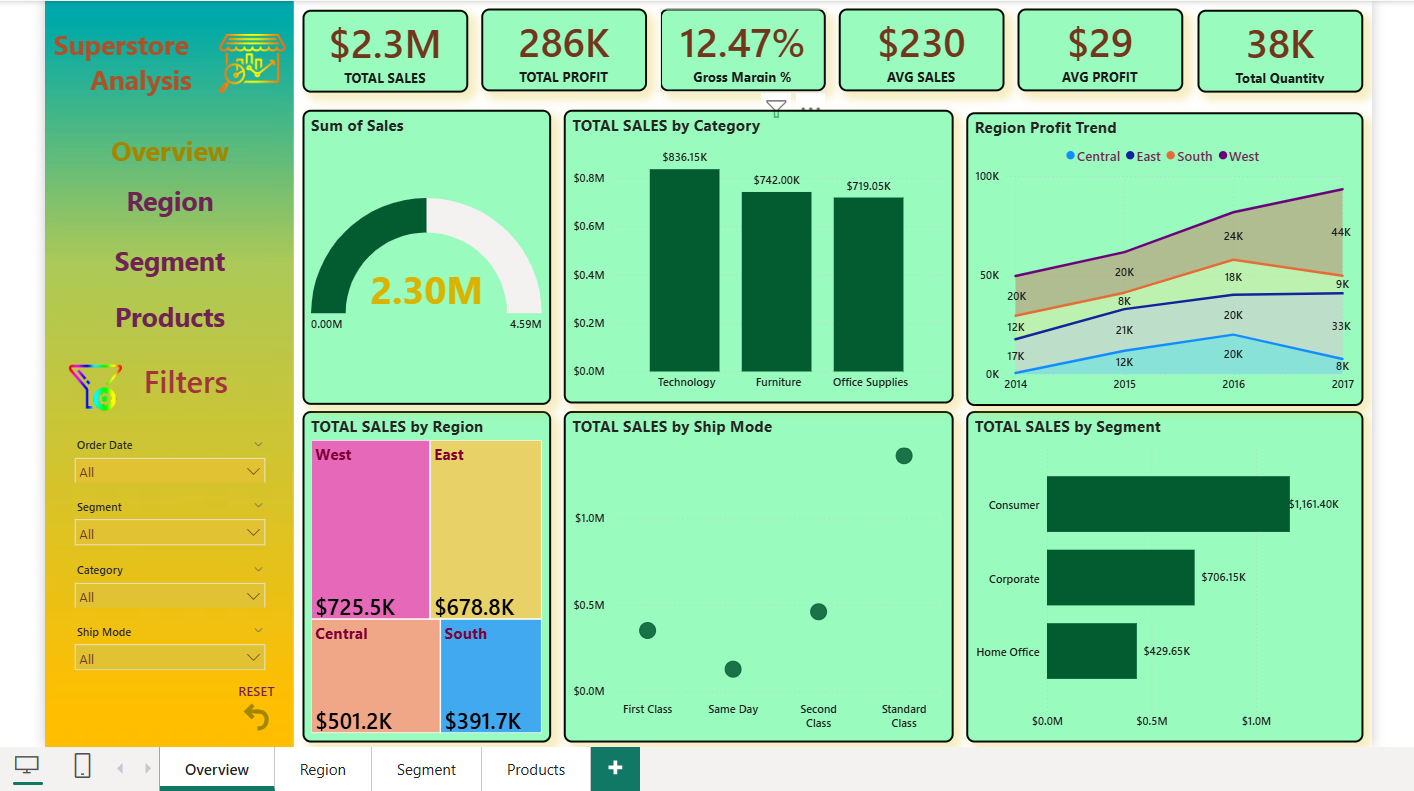

What the dashboard file says about the page in this screenshot:
{"tool":"powerbi","page":{"name":"Overview","canvas":[1600,900],"ordinal":0},"visuals":[{"type":"card","fields":{"Values":["Superstore.Gross Margin %"]},"box":[742,9.5,200,100],"z":0},{"type":"image","title":"Analysis icon","box":[205,30,90.6,90.6],"z":0,"group":"g2"},{"type":"textbox","title":"Filter","box":[118.8,432.5,130,55],"z":0,"group":"g1"},{"type":"card","fields":{"Values":["Superstore.TOTAL PROFIT"]},"box":[526,9.4,200,100],"z":1000},{"type":"textbox","title":"Title","box":[0,30,200,90],"z":1000,"group":"g2"},{"type":"image","title":"Filter icon","box":[25,438.3,70.3,55],"z":1000,"group":"g1"},{"type":"card","fields":{"Values":["Superstore.TOTAL SALES"]},"box":[310,9.9,200,100],"z":2000},{"type":"card","fields":{"Values":["Superstore.AVG SALES"]},"box":[958,9.6,200,100],"z":3000},{"type":"card","fields":{"Values":["Superstore.AVG PROFIT"]},"box":[1174,9.8,200,100],"z":4000},{"type":"card","fields":{"Values":["Superstore.Total Quantity"]},"box":[1390,10,200,100],"z":5000},{"type":"treemap","fields":{"Group":["Superstore.Region"],"Values":["Superstore.TOTAL SALES"]},"box":[310,495.3,300,400],"z":6000},{"type":"scatterChart","fields":{"X":["Superstore.Ship Mode"],"Y":["Superstore.TOTAL SALES"]},"box":[625.5,495.3,470,400],"z":7000},{"type":"clusteredBarChart","fields":{"Category":["Superstore.Segment"],"Y":["Superstore.TOTAL SALES"]},"box":[1110.9,495.3,479,400],"z":8000},{"type":"actionButton","title":"RESET","box":[220,820,70,60],"z":9000},{"type":"slicer","title":"Ship Mode Slicer","fields":{"Values":["Superstore.Ship Mode"]},"box":[25,746.9,250,60.9],"z":10000},{"type":"slicer","title":"Category Slicer","fields":{"Values":["Superstore.Category"]},"box":[25,672.3,250,59.4],"z":11000},{"type":"slicer","title":"Segment slicer","fields":{"Values":["Superstore.Segment"]},"box":[25,596.2,250,60.9],"z":12000},{"type":"slicer","title":"Order date","fields":{"Values":["Superstore.Order Date"]},"box":[25,521.6,250,59.4],"z":13000},{"type":"group","id":"g1","title":"Filter name and icon","box":[25,432.5,223.8,60.8],"z":14000},{"type":"actionButton","title":"Products","box":[25,351.9,250,50],"z":15000},{"type":"actionButton","title":"Segment","box":[25,279,250,67.2],"z":16000},{"type":"actionButton","title":"Region","box":[25,206,250,67.2],"z":17000},{"type":"actionButton","title":"Overview","box":[25,150.3,250,50],"z":18000},{"type":"group","id":"g2","title":"Title name and icon","box":[0,30,295.6,90.6],"z":19000},{"type":"stackedAreaChart","title":"Region Profit Trend","fields":{"Category":["Superstore.Order Date.Variation.Date Hierarchy.Year","Superstore.Order Date.Variation.Date Hierarchy.Quarter","Superstore.Order Date.Variation.Date Hierarchy.Month","Superstore.Order Date.Variation.Date Hierarchy.Day"],"Y":["Superstore.TOTAL PROFIT"],"Series":["Superstore.Region"]},"box":[1111.4,134.2,479.6,354.4],"z":20000},{"type":"clusteredColumnChart","fields":{"Category":["Superstore.Category"],"Y":["Superstore.TOTAL SALES"]},"box":[625.8,131.2,470.5,354.4],"z":21000},{"type":"gauge","fields":{"Y":["Sum(Superstore.Sales)"]},"box":[310.7,131.2,300.1,355.9],"z":22000}]}

Visuals, with their boxes in screenshot pixels (x1, y1, x2, y2):
card - Superstore.Gross Margin %: [left=658, top=1, right=825, bottom=84]
"Analysis icon" image: [left=208, top=18, right=284, bottom=94]
"Filter" textbox: [left=136, top=355, right=245, bottom=401]
card - Superstore.TOTAL PROFIT: [left=477, top=1, right=644, bottom=84]
"Title" textbox: [left=37, top=18, right=204, bottom=93]
"Filter icon" image: [left=58, top=359, right=117, bottom=405]
card - Superstore.TOTAL SALES: [left=296, top=1, right=464, bottom=85]
card - Superstore.AVG SALES: [left=838, top=1, right=1006, bottom=84]
card - Superstore.AVG PROFIT: [left=1019, top=1, right=1187, bottom=85]
card - Superstore.Total Quantity: [left=1200, top=1, right=1367, bottom=85]
treemap - Superstore.Region x Superstore.TOTAL SALES: [left=296, top=407, right=547, bottom=742]
scatterChart - Superstore.Ship Mode x Superstore.TOTAL SALES: [left=560, top=407, right=953, bottom=742]
clusteredBarChart - Superstore.Segment x Superstore.TOTAL SALES: [left=966, top=407, right=1367, bottom=742]
"RESET" actionButton: [left=221, top=679, right=279, bottom=729]
"Ship Mode Slicer" slicer: [left=58, top=618, right=267, bottom=669]
"Category Slicer" slicer: [left=58, top=555, right=267, bottom=605]
"Segment slicer" slicer: [left=58, top=492, right=267, bottom=542]
"Order date" slicer: [left=58, top=429, right=267, bottom=479]
"Filter name and icon" group: [left=58, top=355, right=245, bottom=405]
"Products" actionButton: [left=58, top=287, right=267, bottom=329]
"Segment" actionButton: [left=58, top=226, right=267, bottom=282]
"Region" actionButton: [left=58, top=165, right=267, bottom=221]
"Overview" actionButton: [left=58, top=118, right=267, bottom=160]
"Title name and icon" group: [left=37, top=18, right=284, bottom=94]
"Region Profit Trend" stackedAreaChart: [left=967, top=105, right=1368, bottom=401]
clusteredColumnChart - Superstore.Category x Superstore.TOTAL SALES: [left=560, top=102, right=954, bottom=399]
gauge - Sum(Superstore.Sales): [left=297, top=102, right=548, bottom=400]
